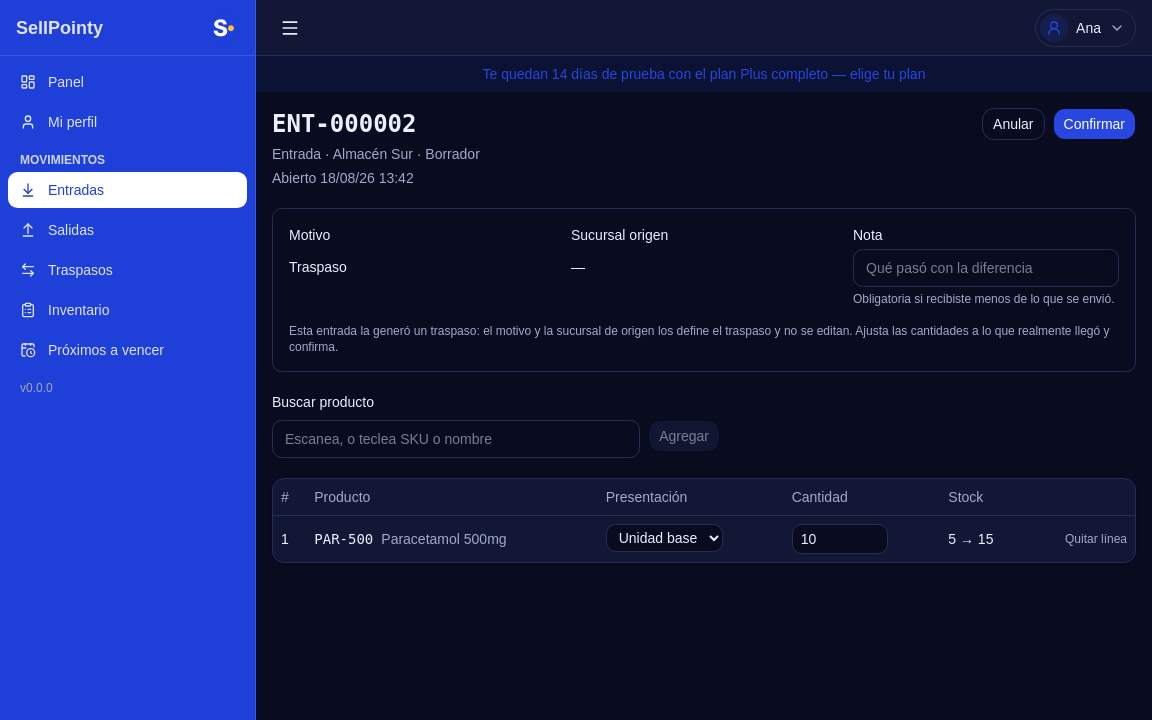
Test: La nota del faltante en la recepción (F10-MANFIX-01) › con faltante: el 400 de confirmar apunta a la Nota, y escribirla la destraba
Expected: the text "Traspaso" is shown, [289,259,347,275]
Click the button "Confirmar" at (1094, 124), box [1052,108,1136,140]
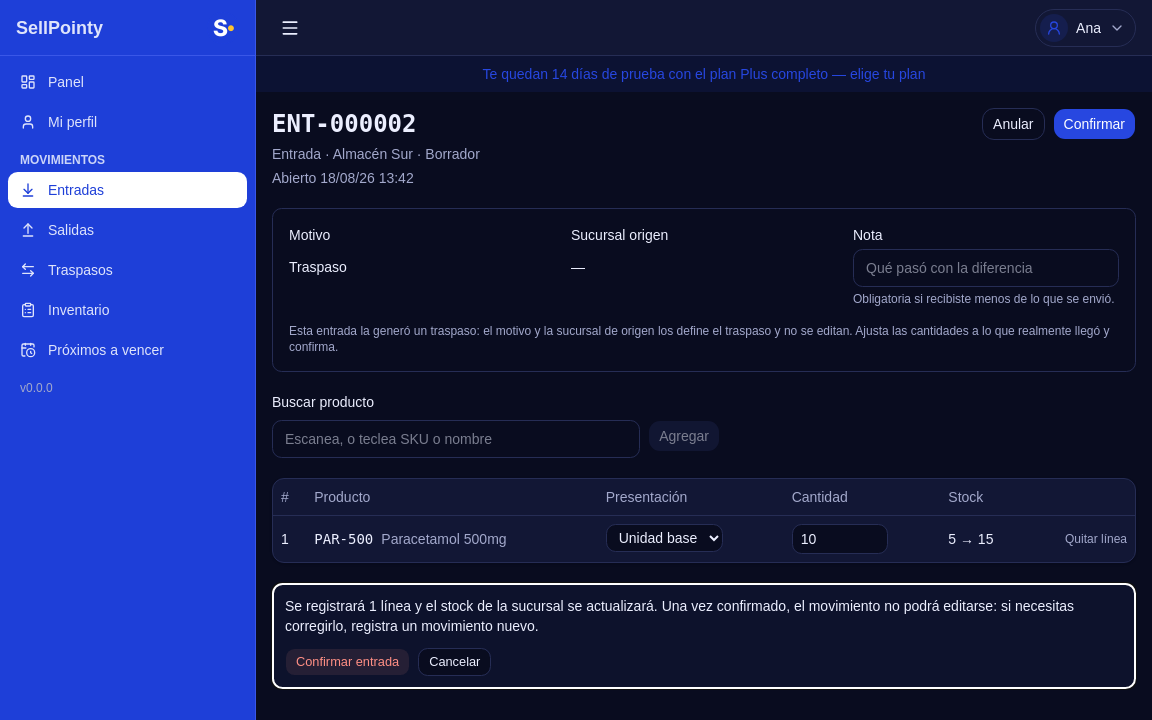
Click the button "Confirmar entrada" at (348, 662), box [285,648,410,676]
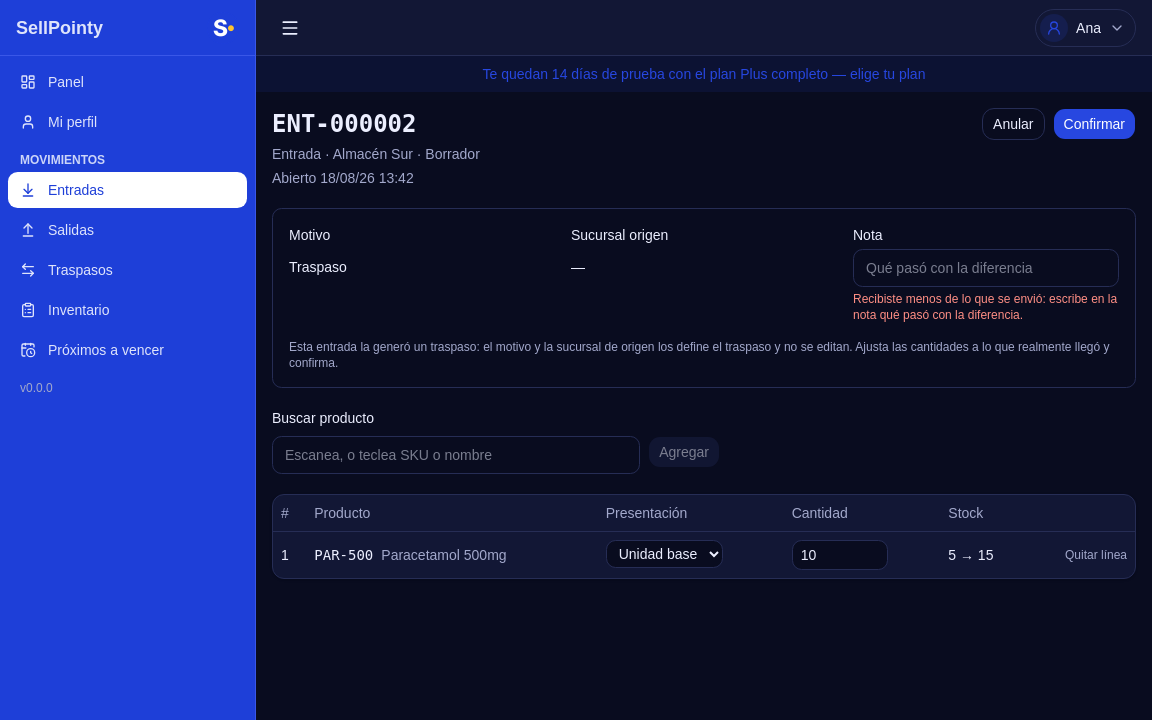
Expected: the text "Recibiste menos de lo que se envió: escribe en la nota qué pasó con la diferencia." is shown, [853,292,1117,322]
Type "Se rompieron 4 botellas" into the field labelled "Nota" at (986, 268), box [853,249,1119,287]
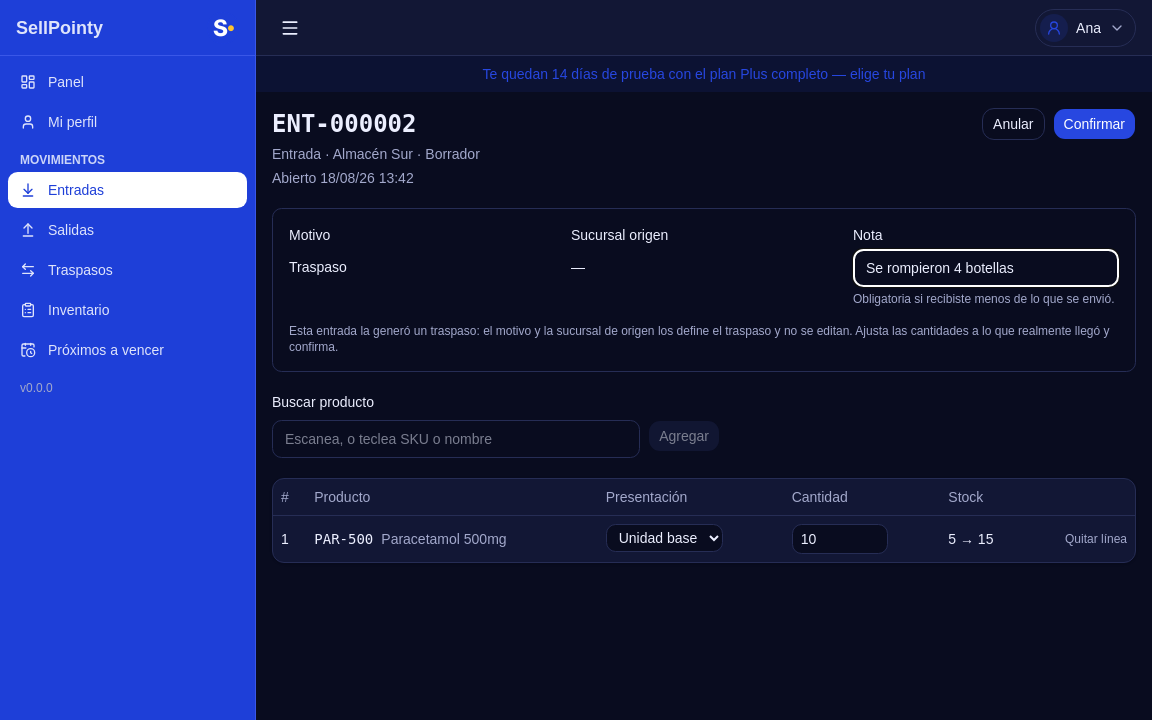
Expected: the text "Recibiste menos de lo que se envió: escribe en la nota qué pasó con la diferencia." is gone
